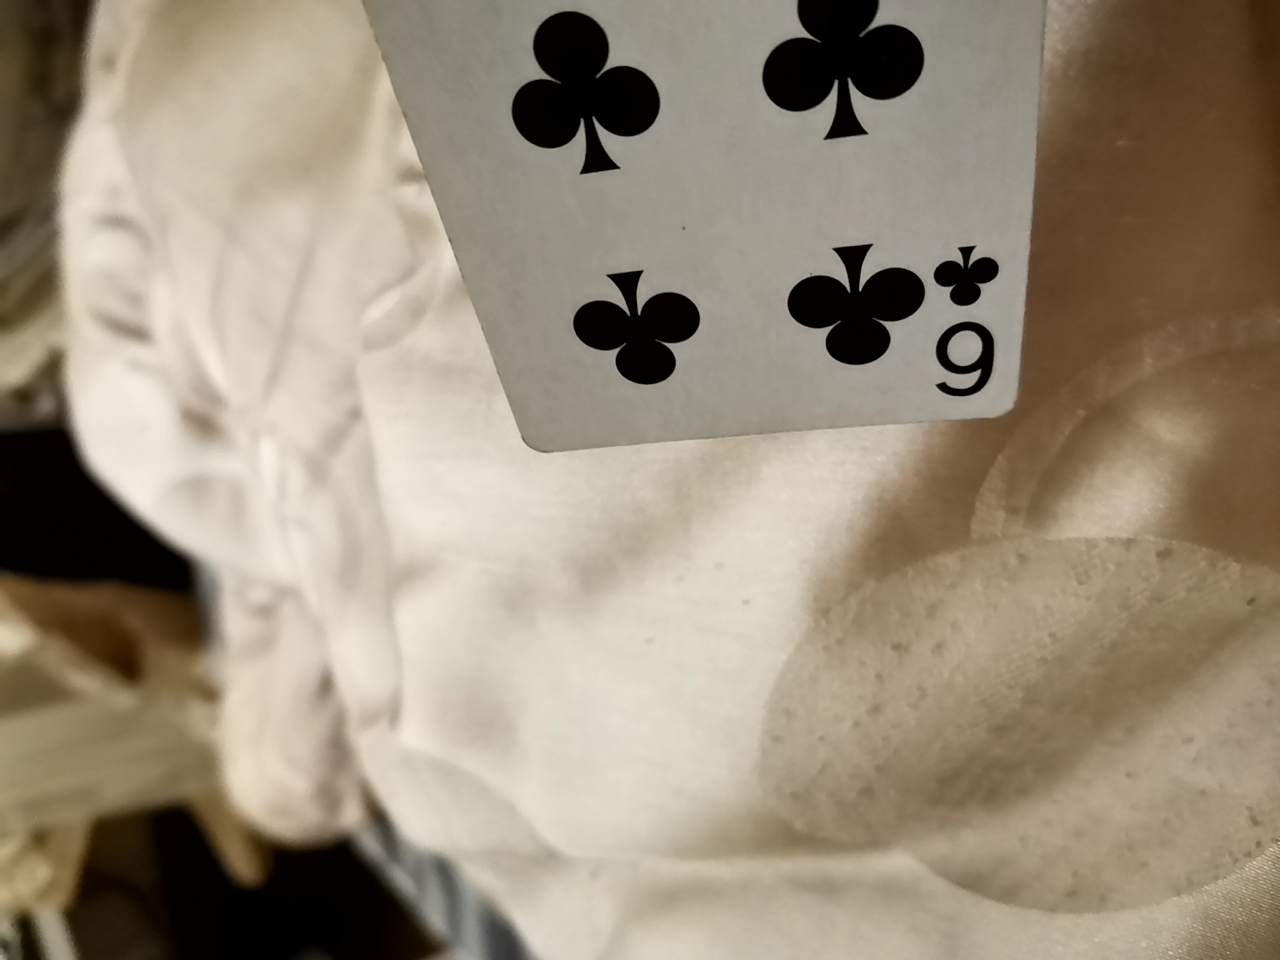mh 6: (368, 5, 1062, 467)
